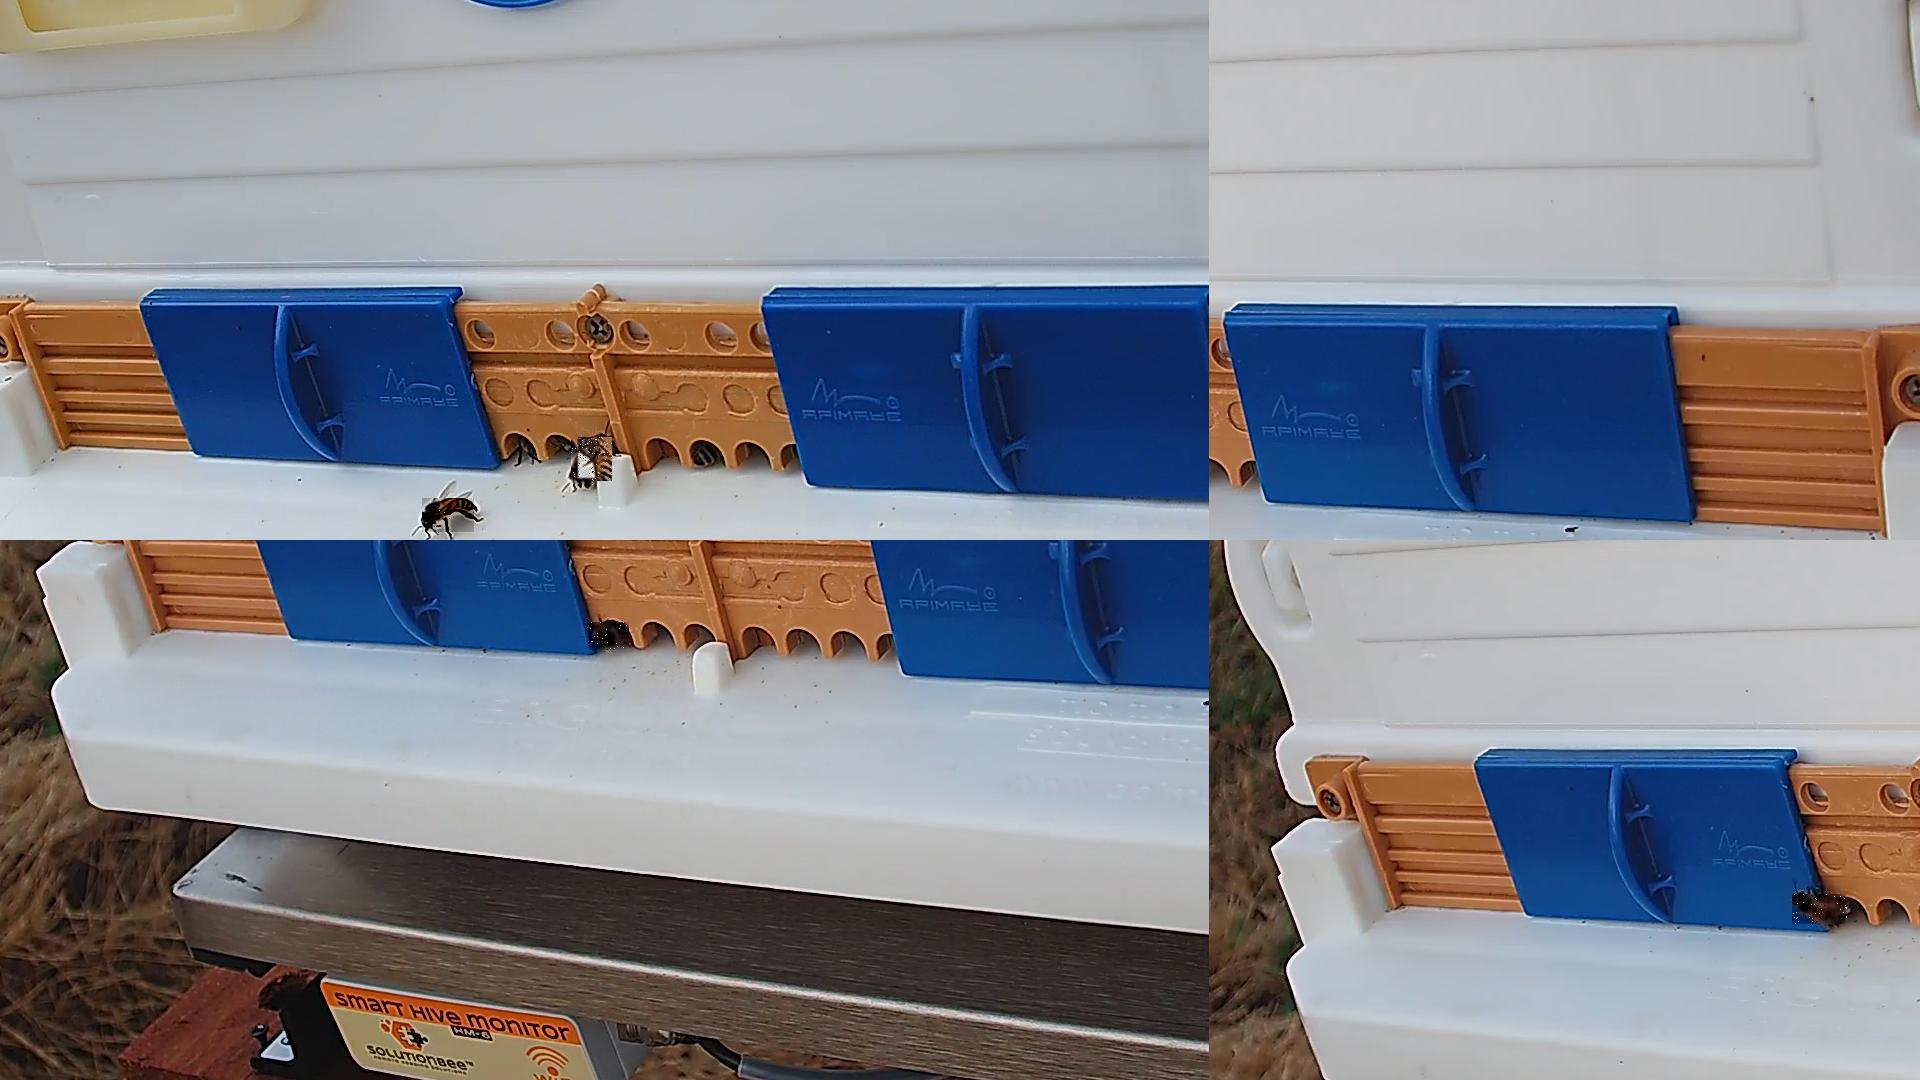bee: (423, 498, 479, 535), (1793, 894, 1849, 926), (578, 436, 613, 483), (571, 439, 599, 487), (589, 622, 630, 653)
